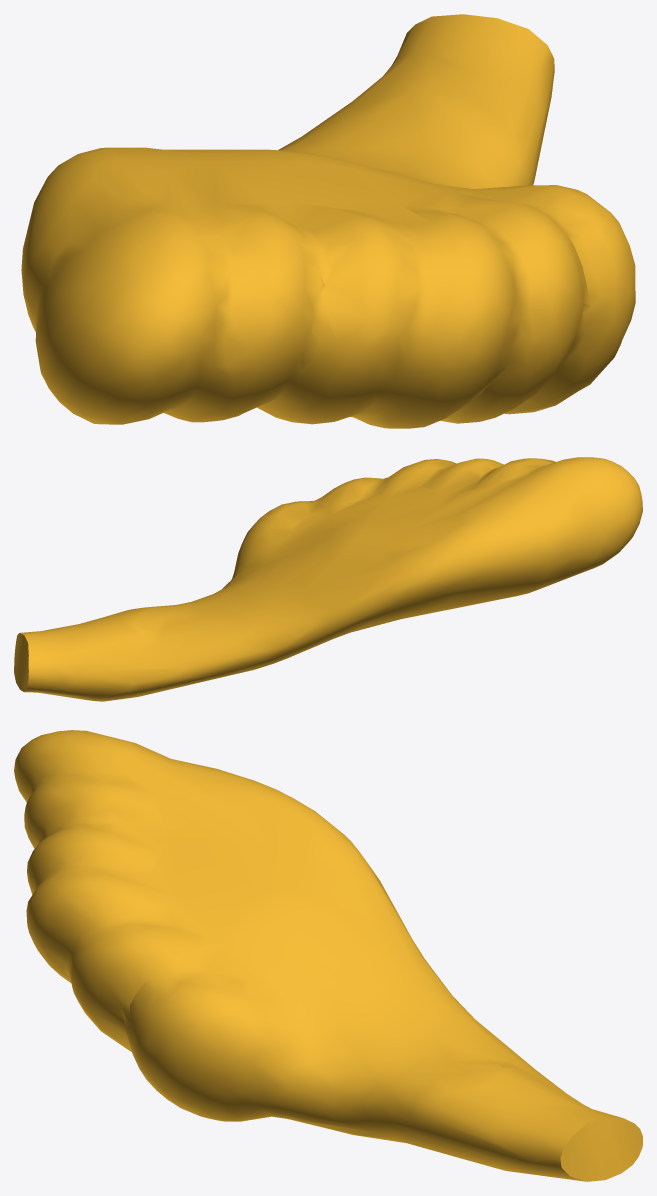
The model's file is nervoso-flocculus-r.glb.
The picture shows the model from 3 angles, top to bottom: view 1: azimuth 30°, elevation 25°; view 2: azimuth 150°, elevation 25°; view 3: azimuth 270°, elevation 25°; orthographic projection. The views are drawn at different scales.
Parts seen in each view (by area): view 1: Flocculus.r; view 2: Flocculus.r; view 3: Flocculus.r.
Part boxes in pixels (bbox=[...]): Flocculus.r: bbox=[21, 14, 635, 428]; Flocculus.r: bbox=[14, 457, 642, 701]; Flocculus.r: bbox=[14, 730, 642, 1181].
Bounding box in the file's own units: 0.0184 × 0.00746 × 0.0177.
